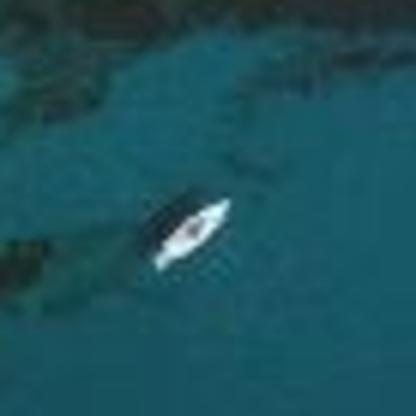ship: (147, 193, 239, 274)
